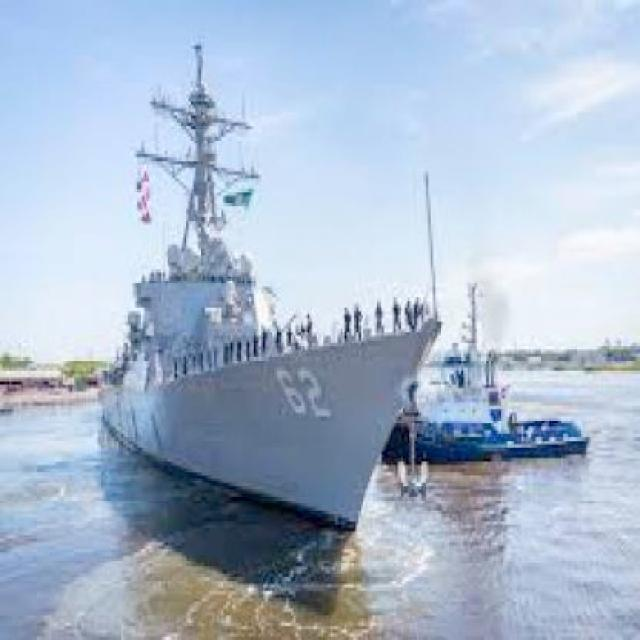no-oil: (48, 506, 640, 640)
